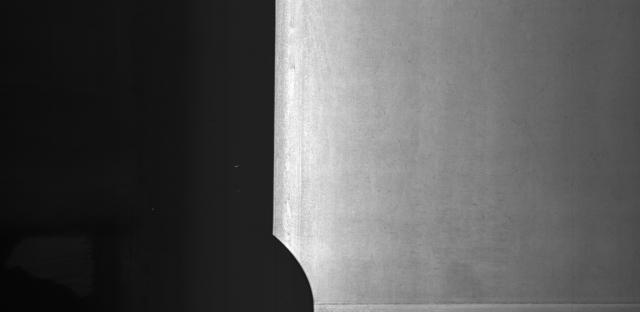crescent_gap: (261, 229, 327, 312)
welding_line: (310, 293, 640, 311)
